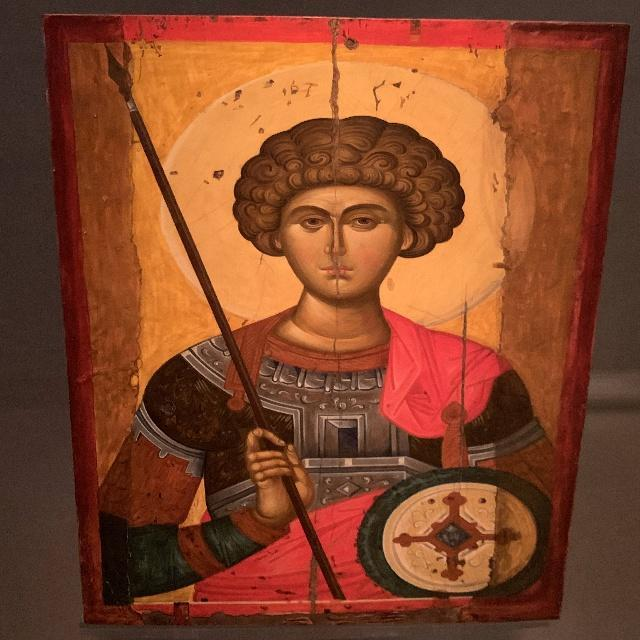armor: (143, 337, 563, 477)
aura: (164, 59, 530, 328)
shield: (357, 464, 552, 598)
spear: (98, 41, 357, 609)
st_george: (67, 38, 548, 600)
